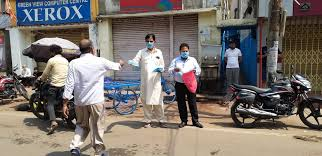mask: (50, 44, 64, 58), (144, 33, 155, 50), (179, 42, 189, 58), (227, 40, 237, 50)
